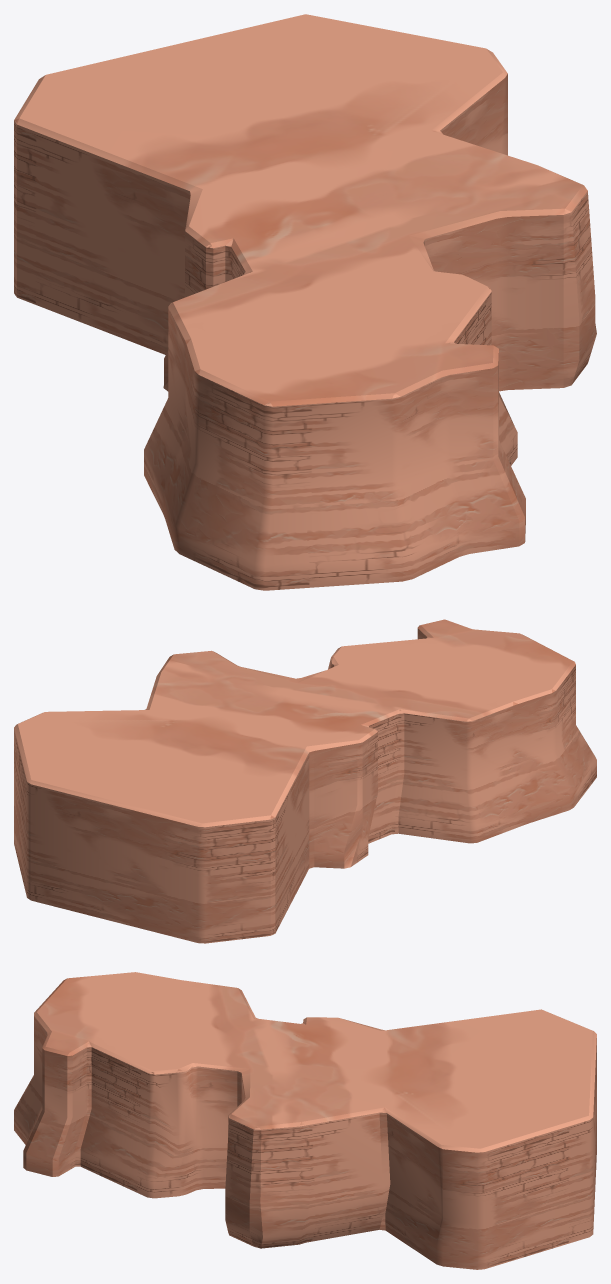
3 views of the same model, one above another, from view 1: azimuth 30°, elevation 25°; view 2: azimuth 150°, elevation 25°; view 3: azimuth 270°, elevation 25° (orthographic). The views are drawn at different scales.
Visible parts, largest first — view 1: Line001; view 2: Line001; view 3: Line001.
Part boxes in pixels (x1,y1,x2,y2): Line001: [14, 14, 596, 590]; Line001: [14, 619, 596, 943]; Line001: [14, 972, 596, 1269].
Bounding box in the file's own units: 298 × 388 × 88.13.
